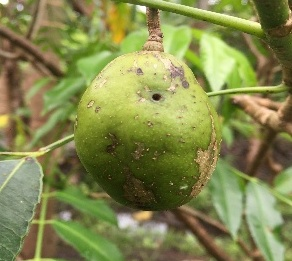Coc: (67, 51, 224, 215)
